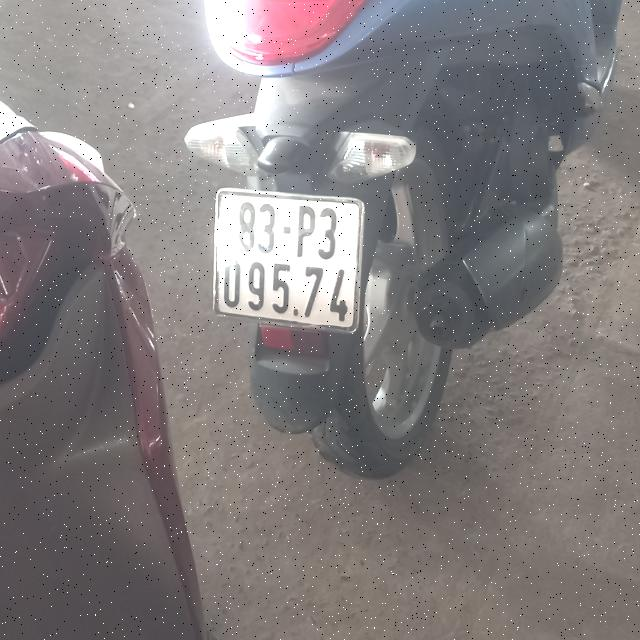0: (222, 259, 241, 310)
3: (256, 202, 275, 253), (319, 208, 336, 260)
4: (330, 268, 349, 320)
5: (272, 262, 289, 313)
7: (304, 266, 323, 322)
8: (238, 201, 255, 251)
9: (247, 261, 264, 311)
P: (296, 205, 314, 258)
